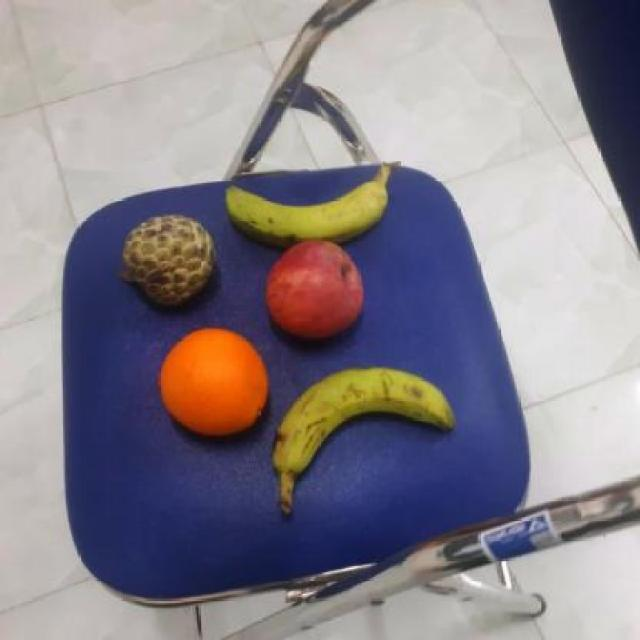apple: (258, 239, 369, 339)
banana: (272, 363, 458, 479), (223, 162, 397, 245)
oren: (154, 328, 274, 437)
sugar apple: (115, 208, 220, 306)
